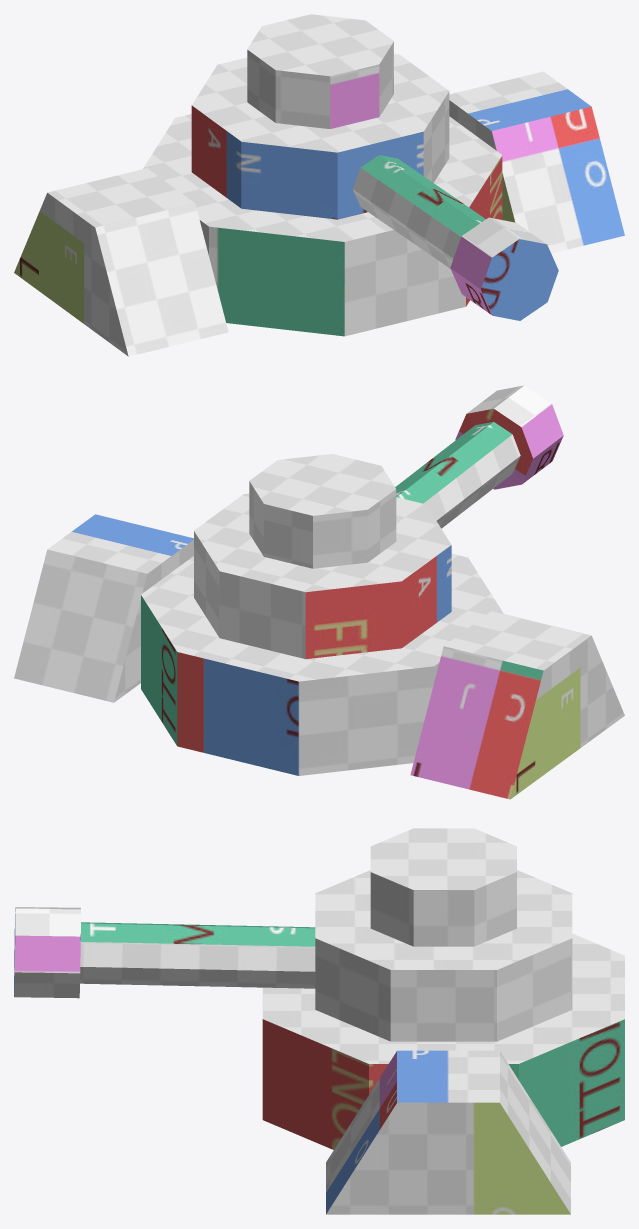
The model's file is tank.obj.
3 views of the same model, one above another, from view 1: azimuth 30°, elevation 25°; view 2: azimuth 150°, elevation 25°; view 3: azimuth 270°, elevation 25° (orthographic). The views are drawn at different scales.
Visible parts, largest first — view 1: Cylinder; view 2: Cylinder; view 3: Cylinder.
Part boxes in pixels (<box>): Cylinder: <box>14,14,624,356</box>; Cylinder: <box>14,385,624,799</box>; Cylinder: <box>14,828,624,1214</box>.
Size of the model in its own units: 3.13 by 1.29 by 3.12.
